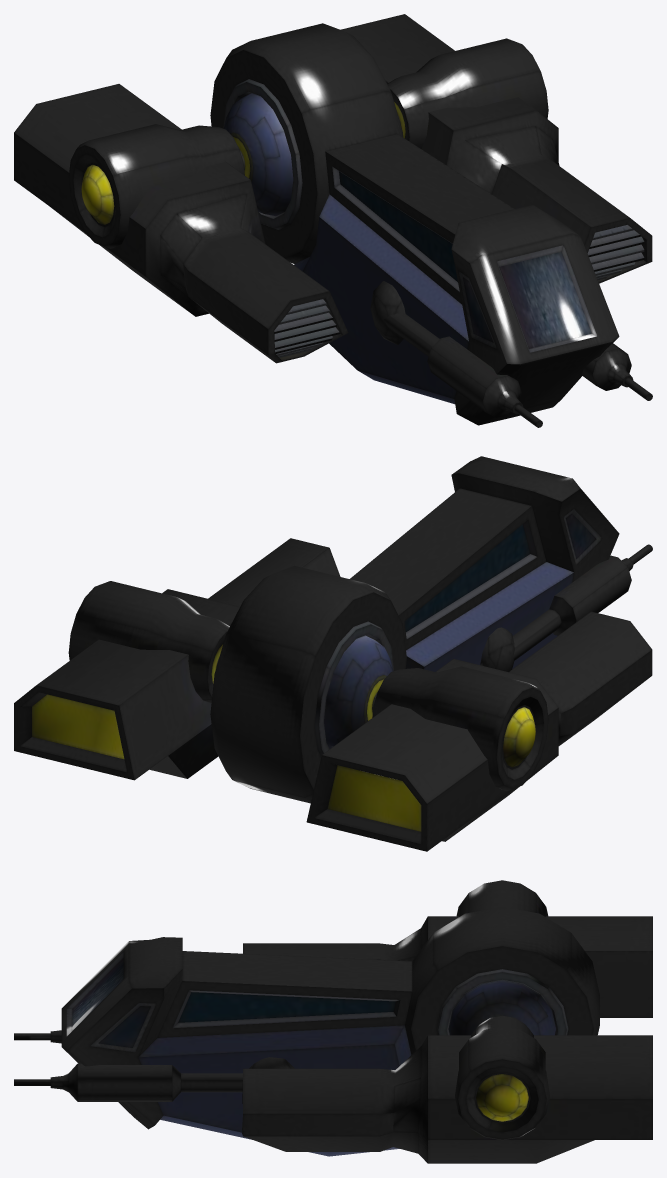
Rendered from hawk.obj.
The picture shows the model from 3 angles, top to bottom: view 1: azimuth 30°, elevation 25°; view 2: azimuth 150°, elevation 25°; view 3: azimuth 270°, elevation 25°; orthographic projection. The views are drawn at different scales.
Parts seen in each view (by area): view 1: Sphere001; view 2: Sphere001; view 3: Sphere001.
Boxes of the visible parts, bbox=[...] form: Sphere001: bbox=[14, 14, 652, 427]; Sphere001: bbox=[14, 456, 652, 851]; Sphere001: bbox=[14, 880, 652, 1163].
Size of the model in its own units: 43.44 by 24.12 by 63.61.
Materials: 1 (1 with a texture image).
